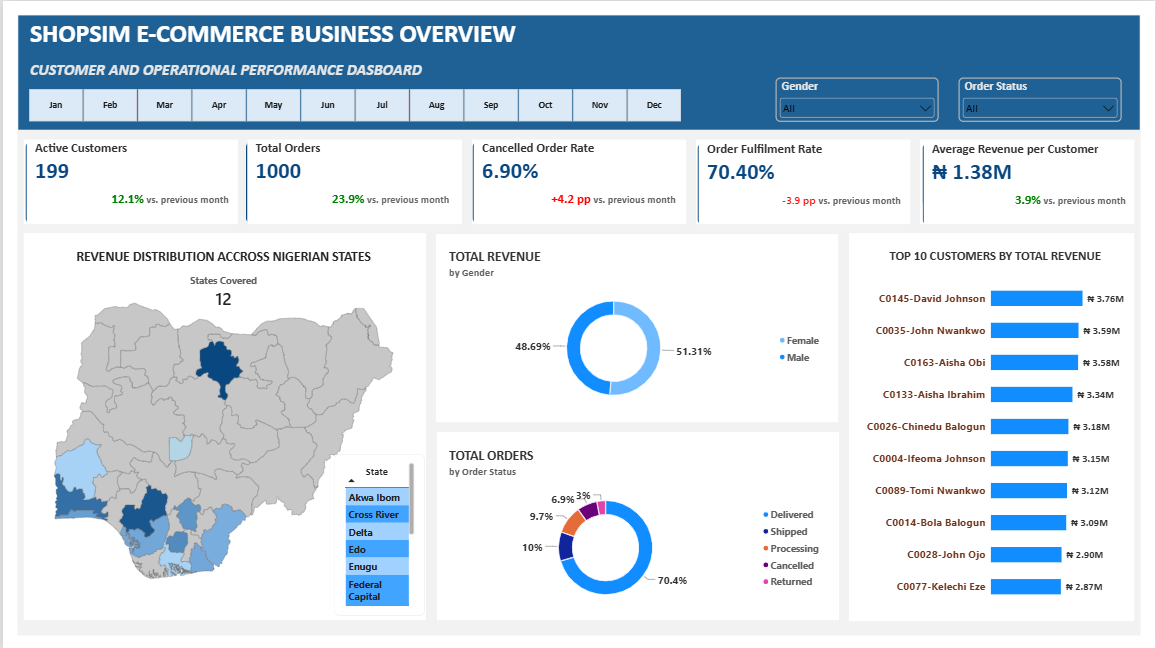

This screenshot's page, from the dashboard's own definition file:
{"tool":"powerbi","page":{"name":"Customer & Operational Performance","canvas":[1920,1080],"ordinal":1},"visuals":[{"type":"cardVisual","fields":{"Data":["Measure.Active Customers"]},"box":[37.5,235,355,135],"z":0,"group":"g2"},{"type":"cardVisual","fields":{"Data":["Measure.Total Orders"]},"box":[403.2,236.2,355,136],"z":1000,"group":"g2"},{"type":"cardVisual","fields":{"Data":["Measure.Order Fulfilment Rate"]},"box":[1157.5,237.5,355,135],"z":2000,"group":"g2"},{"type":"cardVisual","fields":{"Data":["Measure.Cancelled Order Rate"]},"box":[782.5,235,355,135],"z":3000,"group":"g2"},{"type":"cardVisual","fields":{"Data":["Measure.Average Revenue per Customer"]},"box":[1532.5,237.5,355,135],"z":4000,"group":"g2"},{"type":"shapeMap","title":"REVENUE DISTRIBUTION ACCROSS NIGERIAN STATES","fields":{"Category":["Customers.State"],"Value":["Measure.Total Revenue"]},"box":[37.5,397.5,660,630],"z":5000,"group":"g1"},{"type":"donutChart","title":"TOTAL REVENUE","fields":{"Category":["Customers.Gender"],"Y":["Measure.Total Revenue"]},"box":[727.5,397.5,657.5,297.5],"z":6000,"group":"g2"},{"type":"clusteredBarChart","title":"TOP 10 CUSTOMERS BY TOTAL REVENUE","fields":{"Category":["Customers.Customer Label"],"Y":["Measure.Total Revenue"]},"box":[1422.5,397.5,462.5,630],"z":7000,"group":"g2"},{"type":"donutChart","title":"TOTAL ORDERS","fields":{"Category":["Orders.OrderStatus"],"Y":["Measure.Total Orders"]},"box":[727.5,730,657.5,297.5],"z":8000,"group":"g2"},{"type":"cardVisual","title":"States Covered","fields":{"Data":["Measure.States Covered"]},"box":[403.2,878,145.5,83.5],"z":9000,"group":"g2"},{"type":"tableEx","title":"States Covered","fields":{"Values":["Customers.State"]},"box":[551.3,753.7,150.3,269.6],"z":10000,"group":"g1"},{"type":"slicer","fields":{"Values":["Customers.Gender"]},"box":[1286,128.8,272,74],"z":11000,"group":"g2"},{"type":"slicer","fields":{"Values":["Orders.OrderStatus"]},"box":[1591.4,128.8,272,74],"z":12000,"group":"g2"},{"type":"slicer","fields":{"Values":["Calendar.Month"]},"box":[21.5,145.5,1126.2,57.3],"z":13000,"group":"g2"},{"type":"textbox","box":[43,28.6,916.2,116.9],"z":13001,"group":"g2"},{"type":"group","id":"g1","title":"Group 1","box":[37.5,397.5,664.1,630],"z":13002,"group":"g2"},{"type":"cardVisual","fields":{"Data":["Measure.Total States"]},"box":[290,450,155,70],"z":13003,"group":"g2"},{"type":"group","id":"g2","title":"Group 2","box":[21.5,28.6,1866,998.9],"z":13004}]}

Visuals, with their boxes in screenshot pixels (x1, y1, x2, y2), scaled from the page's 1920x1080 canvas onto the 1156x648 screenshot:
cardVisual - Measure.Active Customers: box=[23, 141, 236, 222]
cardVisual - Measure.Total Orders: box=[243, 142, 456, 223]
cardVisual - Measure.Order Fulfilment Rate: box=[697, 142, 911, 224]
cardVisual - Measure.Cancelled Order Rate: box=[471, 141, 685, 222]
cardVisual - Measure.Average Revenue per Customer: box=[923, 142, 1136, 224]
"REVENUE DISTRIBUTION ACCROSS NIGERIAN STATES" shapeMap: box=[23, 238, 420, 616]
"TOTAL REVENUE" donutChart: box=[438, 238, 834, 417]
"TOP 10 CUSTOMERS BY TOTAL REVENUE" clusteredBarChart: box=[856, 238, 1135, 616]
"TOTAL ORDERS" donutChart: box=[438, 438, 834, 616]
"States Covered" cardVisual: box=[243, 527, 330, 577]
"States Covered" tableEx: box=[332, 452, 422, 614]
slicer - Customers.Gender: box=[774, 77, 938, 122]
slicer - Orders.OrderStatus: box=[958, 77, 1122, 122]
slicer - Calendar.Month: box=[13, 87, 691, 122]
textbox: box=[26, 17, 578, 87]
"Group 1" group: box=[23, 238, 422, 616]
cardVisual - Measure.Total States: box=[175, 270, 268, 312]
"Group 2" group: box=[13, 17, 1136, 616]
